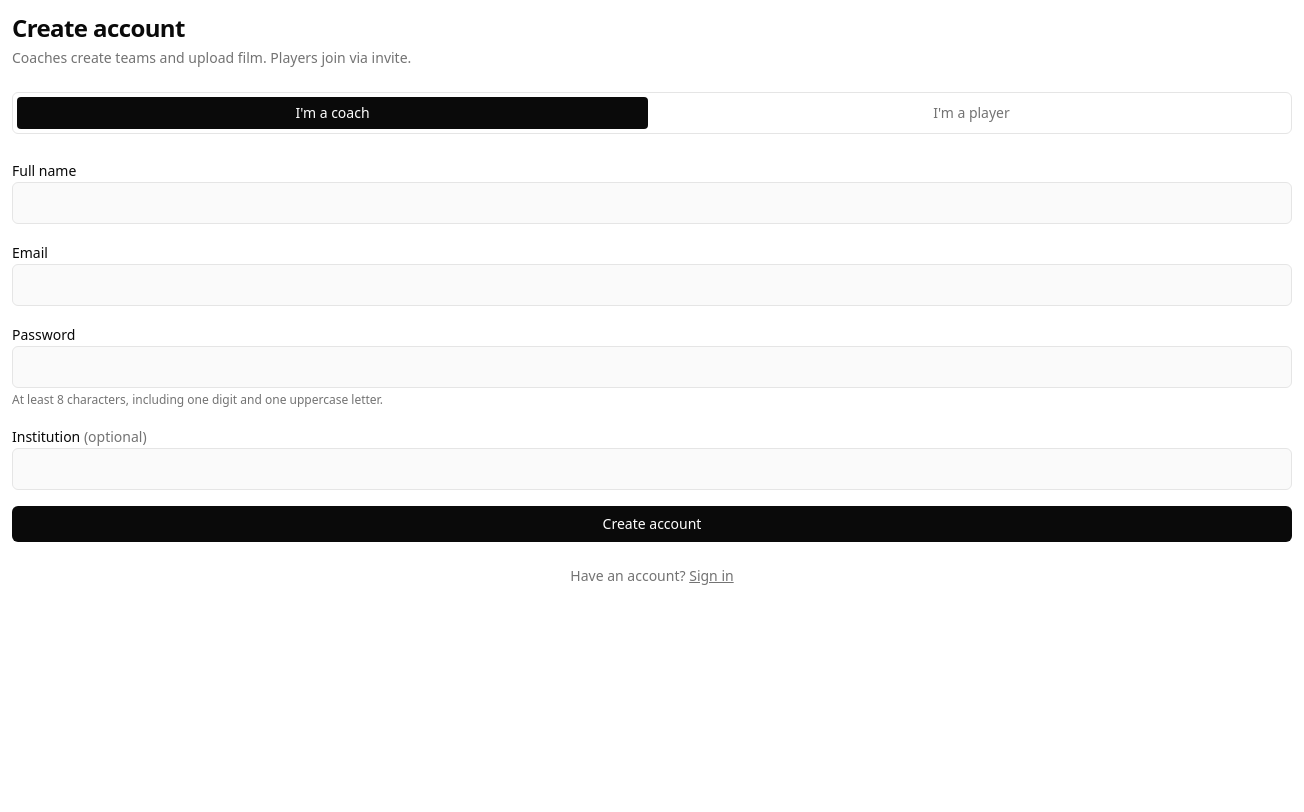
Test: auth Retry-After handling › disables registration submission while rate-limited
In the field labelled "Full name": [652, 203] box [12, 182, 1292, 224], type "Rate Limited"
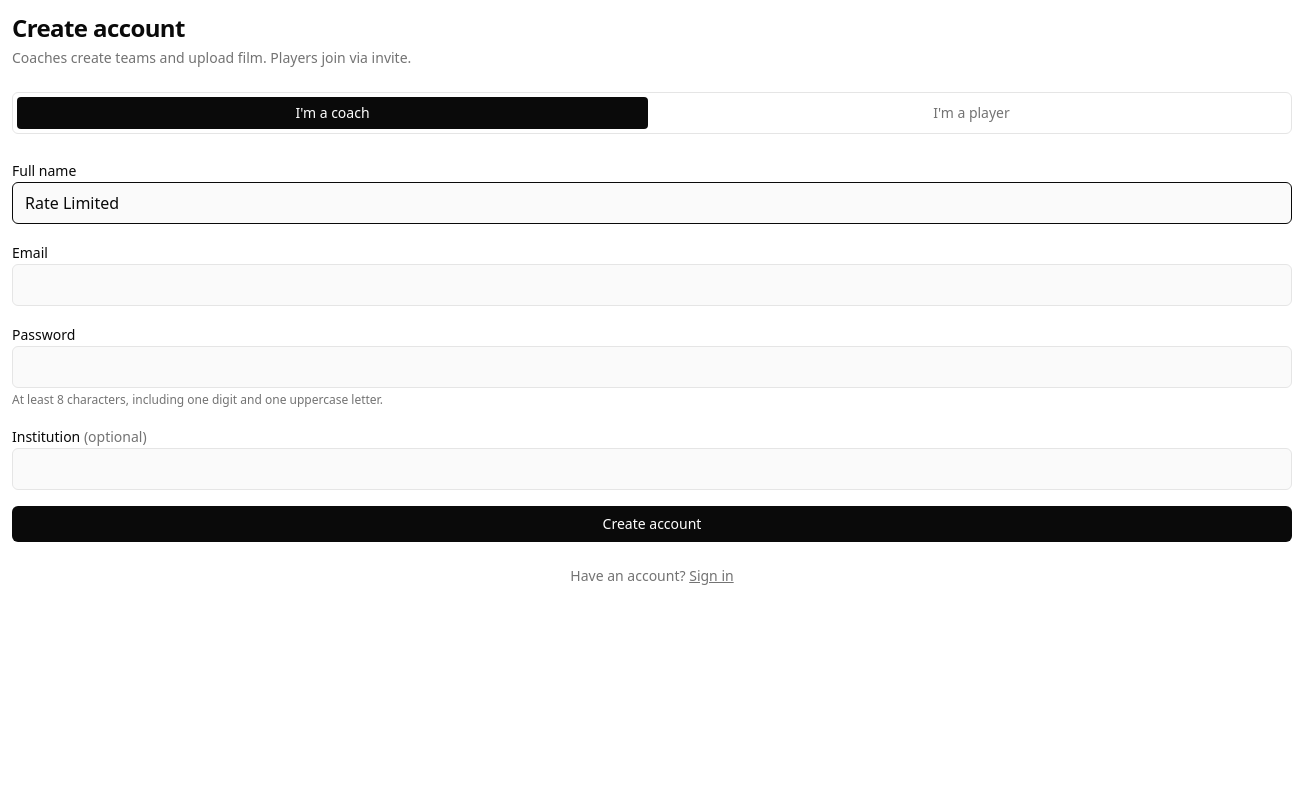
In the field labelled "Email": [652, 285] box [12, 264, 1292, 306], type "rate-register@example.com"
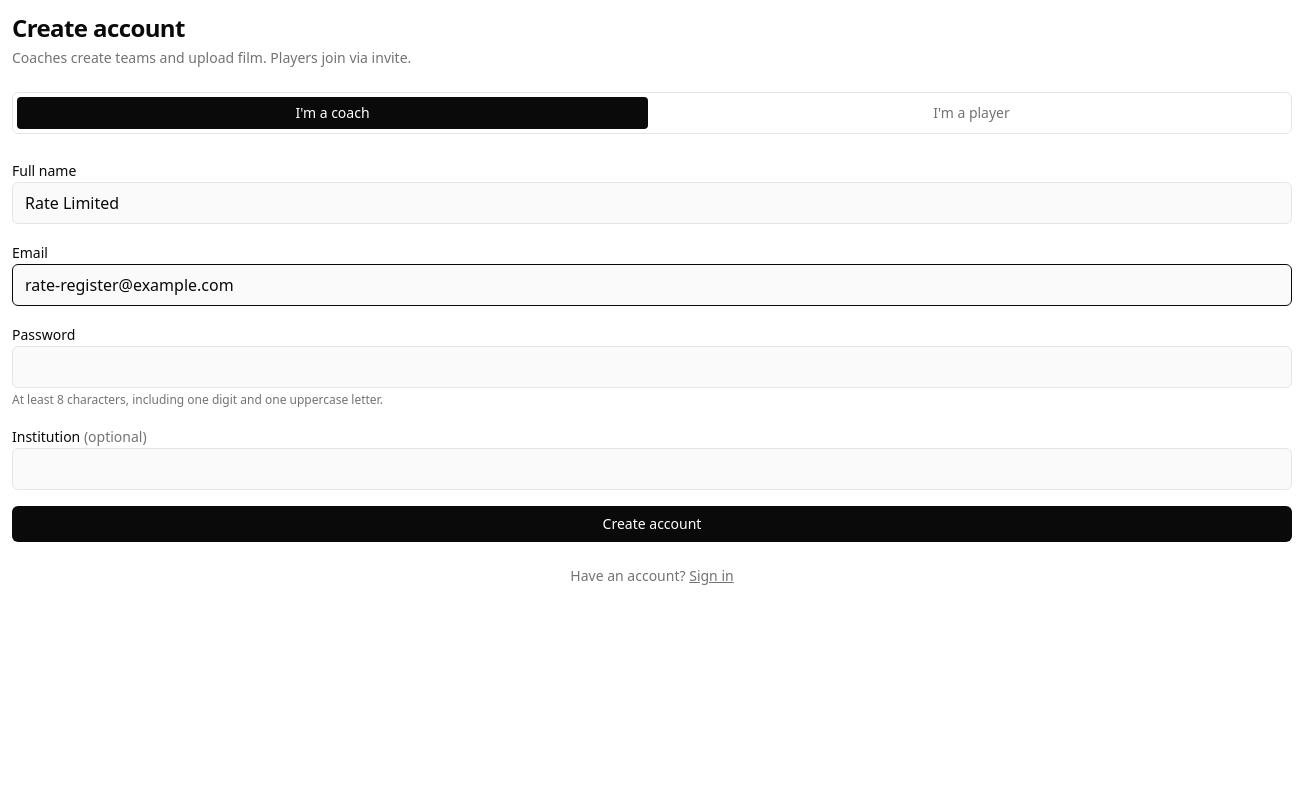
In the password field labelled "Password": [652, 367] box [12, 346, 1292, 388], type "Password1!"
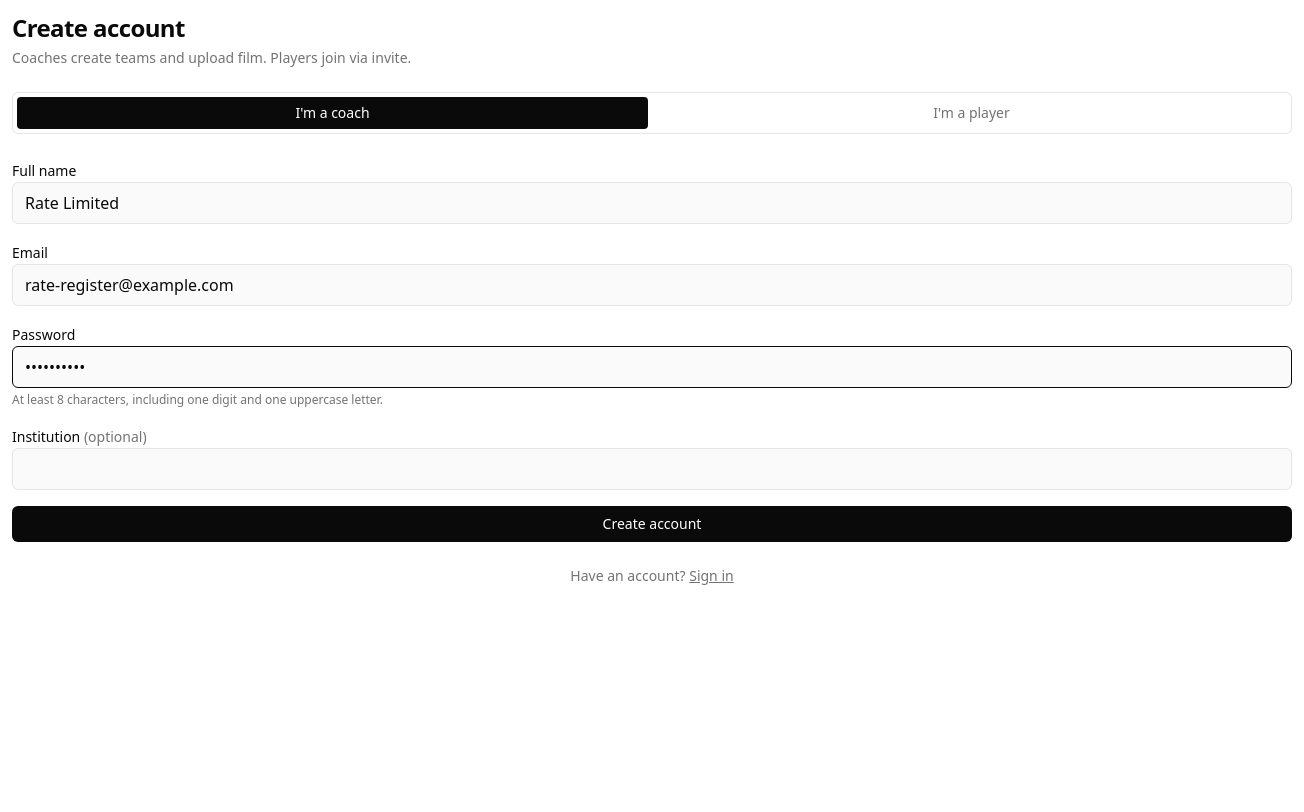
Click the button "Create account": [652, 524] box [12, 506, 1292, 542]
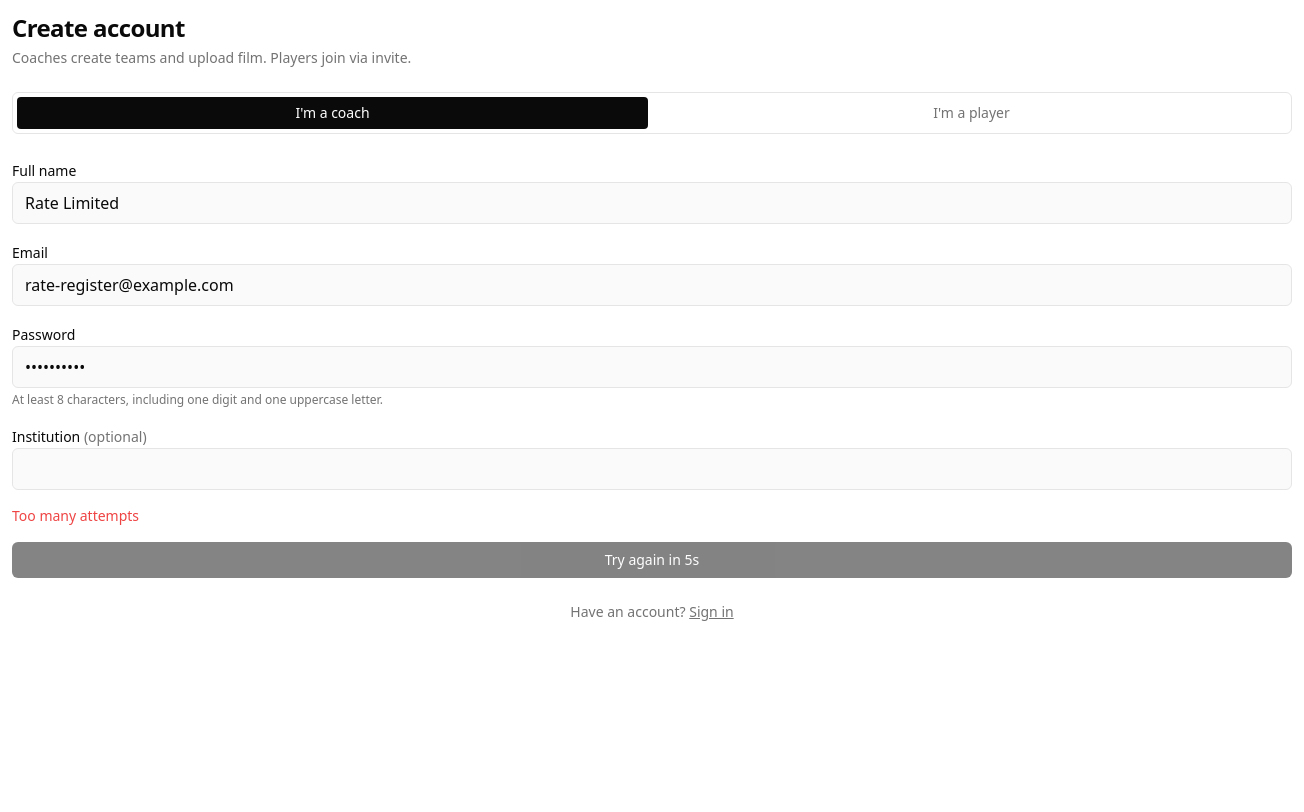
Expected: the button "Try again in 5s" is disabled, [12, 542, 1292, 578]
